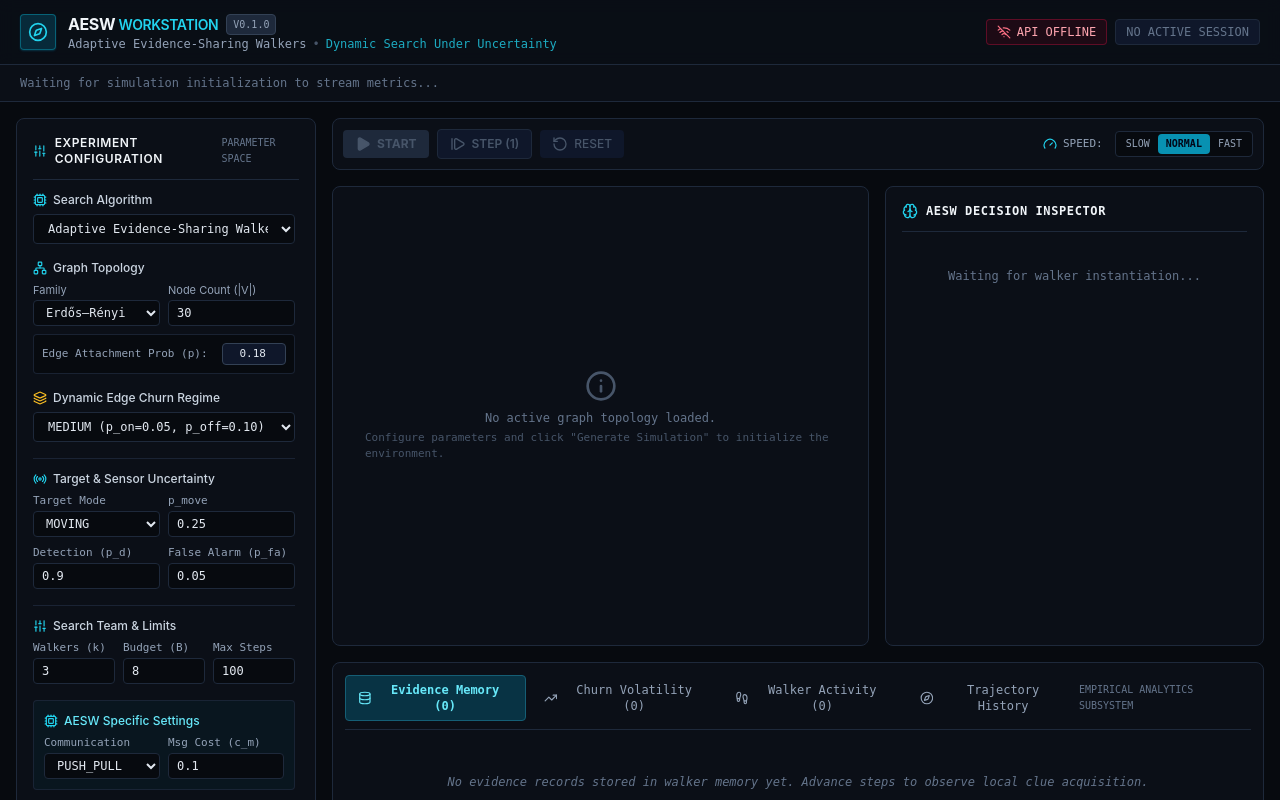
AESW Research Workstation Frontend › 24. Top metrics strip displays No comm badge and explanatory tooltip when communication-free baseline is active
The width and height of the screenshot is (1280, 800).
// Select Random Walk baseline
Select "Random Walk (Baseline)" in the dropdown below "Search Algorithm" at x=164, y=229, box x1=33 y1=214 x2=295 y2=244
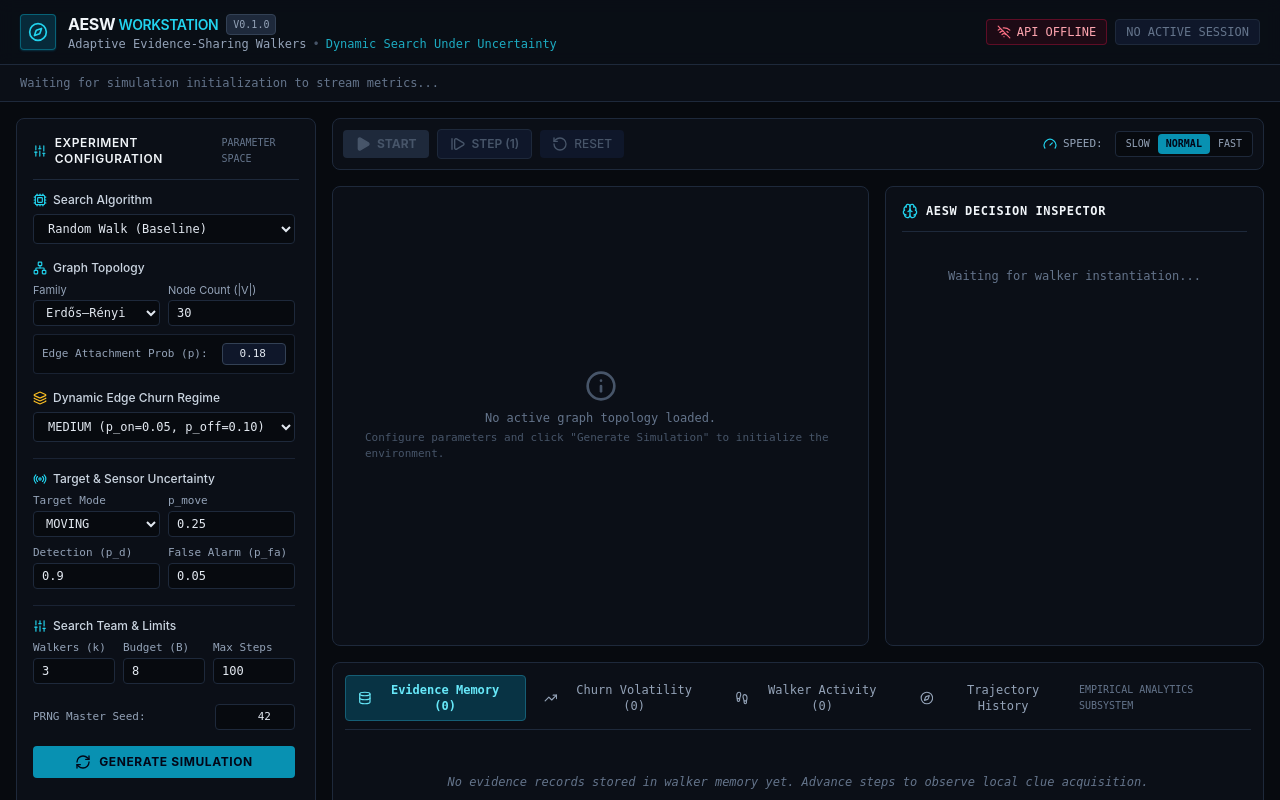
Click the button "Generate Simulation".
click(164, 762)  # box x1=33 y1=746 x2=295 y2=778
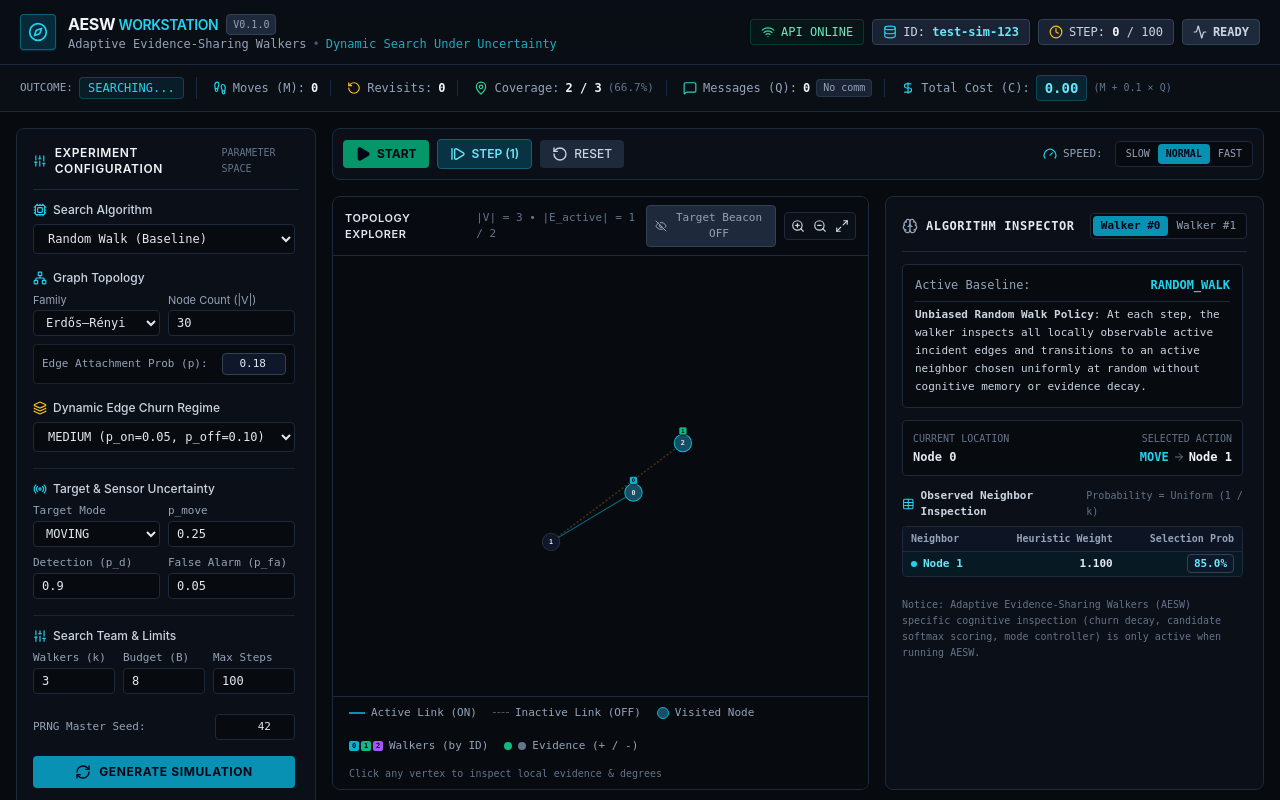
Expected: the text "test-sim-123" is shown, x1=932 y1=25 x2=1019 y2=39
Expected: the text "Messages (Q):" is shown, x1=703 y1=80 x2=797 y2=96
Expected: the text "No comm" is shown, x1=816 y1=79 x2=872 y2=97
